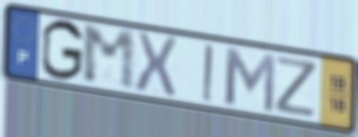G: (39, 17, 86, 83)
I: (201, 41, 216, 105)
M: (80, 23, 139, 93), (222, 44, 278, 115)
X: (133, 29, 179, 99)
Z: (273, 54, 320, 120)
